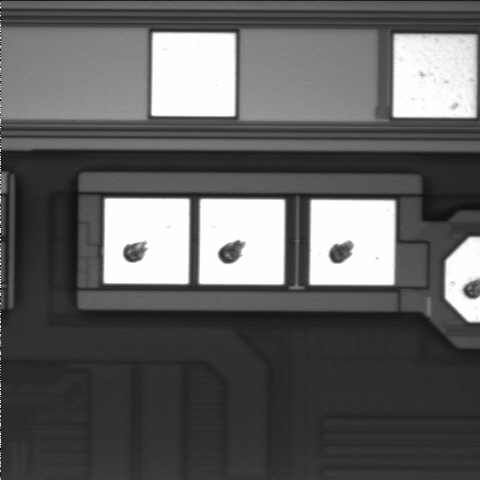pad: (199, 199, 285, 284), (104, 199, 189, 284), (310, 200, 395, 285), (152, 33, 235, 116), (393, 35, 476, 117)
